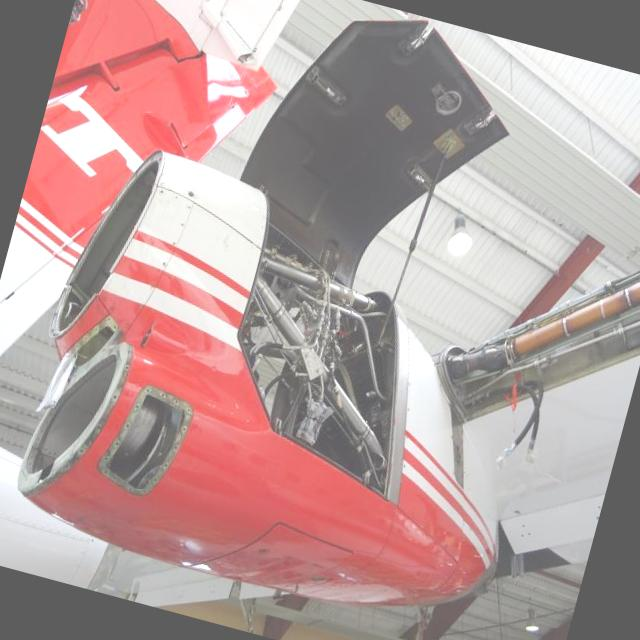Missing Fastener: (148, 474, 162, 487), (177, 422, 189, 437), (160, 456, 171, 472), (170, 440, 182, 454), (132, 399, 142, 414), (124, 482, 136, 494), (124, 418, 134, 432), (112, 435, 121, 450), (157, 392, 168, 403), (113, 475, 122, 487), (184, 404, 192, 416), (94, 420, 102, 432), (63, 460, 70, 473), (142, 484, 151, 494), (102, 454, 109, 466), (82, 332, 89, 344), (102, 466, 110, 476), (172, 397, 180, 406), (78, 446, 85, 456), (110, 320, 117, 330), (92, 326, 99, 336), (144, 386, 152, 394), (104, 314, 112, 322), (74, 343, 80, 353), (112, 392, 118, 401), (122, 363, 128, 371), (127, 347, 133, 353)
